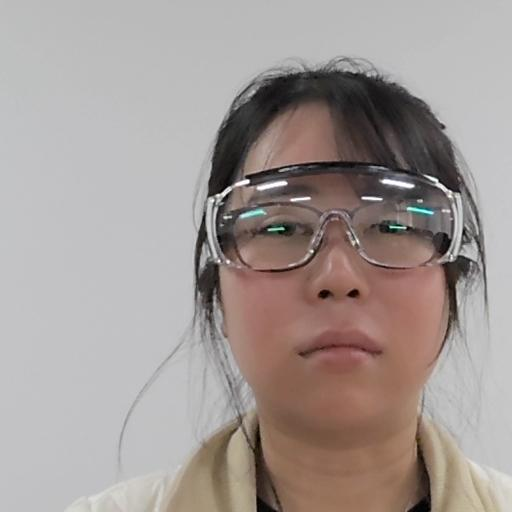glasses: (194, 62, 500, 450)
